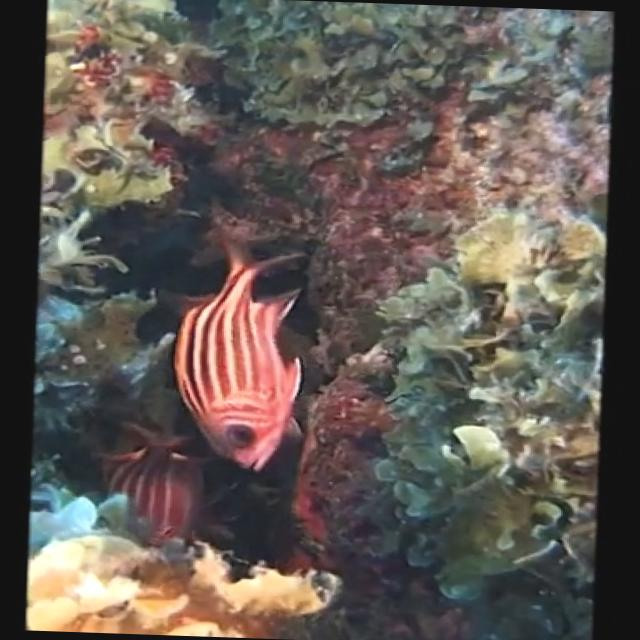Asker Baligi: (166, 250, 312, 474)
